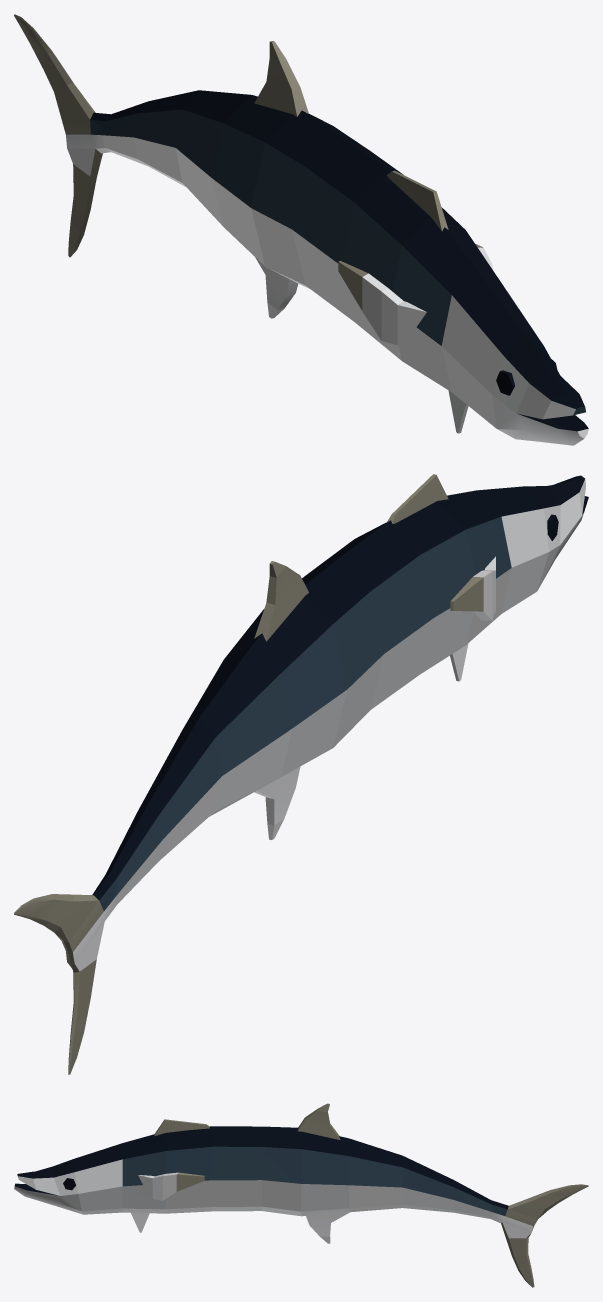
The model's file is Mesh_Kingfish-animation3.obj.
3 views of the same model, one above another, from view 1: azimuth 30°, elevation 25°; view 2: azimuth 150°, elevation 25°; view 3: azimuth 270°, elevation 25° (orthographic). The views are drawn at different scales.
Visible parts, largest first — view 1: Mesh_Kingfish; view 2: Mesh_Kingfish; view 3: Mesh_Kingfish.
Part boxes in pixels (x1=…): Mesh_Kingfish: x1=14, y1=14, x2=588, y2=445; Mesh_Kingfish: x1=14, y1=474, x2=588, y2=1074; Mesh_Kingfish: x1=14, y1=1103, x2=588, y2=1287.
Size of the model in its own units: 17.26 by 49.51 by 140.
1 material, 1 textured.
